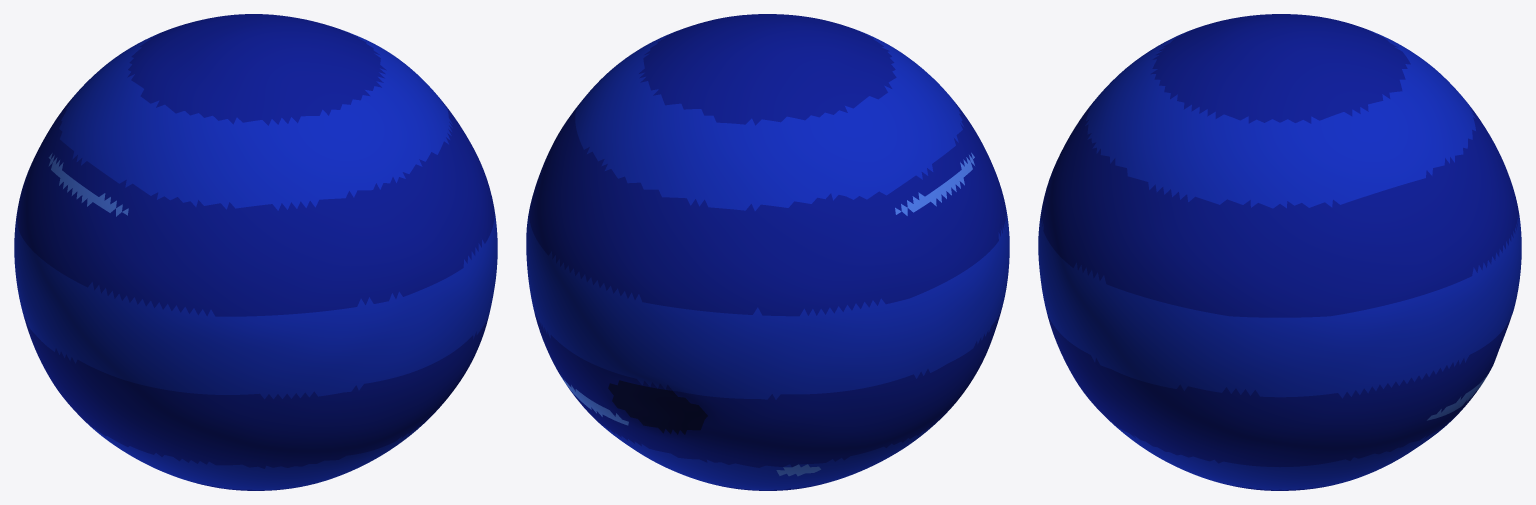
File: CELESTIAL_08_Neptune.obj
3 views of the same model, side by side, from view 1: azimuth 30°, elevation 25°; view 2: azimuth 150°, elevation 25°; view 3: azimuth 270°, elevation 25° (orthographic).
Parts seen in each view (by area): view 1: CELESTIAL_08_Neptune_Neptune; view 2: CELESTIAL_08_Neptune_Neptune; view 3: CELESTIAL_08_Neptune_Neptune.
Part boxes in pixels (bbox=[...]): CELESTIAL_08_Neptune_Neptune: bbox=[14, 14, 497, 490]; CELESTIAL_08_Neptune_Neptune: bbox=[526, 14, 1009, 490]; CELESTIAL_08_Neptune_Neptune: bbox=[1038, 14, 1521, 490].
Bounding box in the file's own units: 2 × 1.97 × 2.
